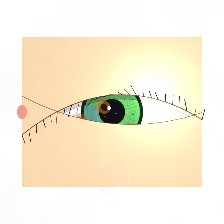foreign_body_visible: (73, 115, 98, 135)
